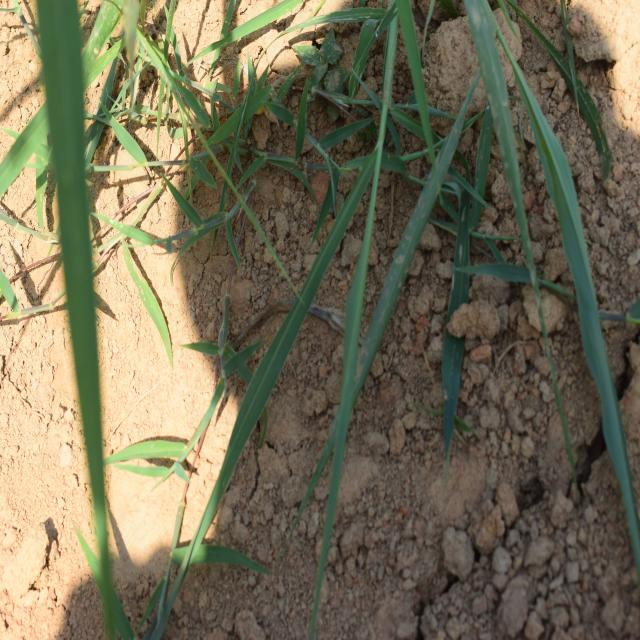green_foxtail: (229, 114, 460, 455)
